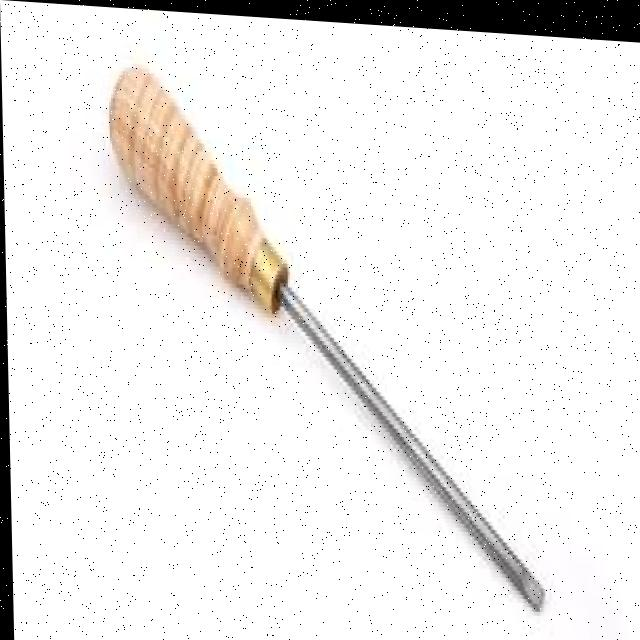Screwdriver: (109, 66, 539, 602)
